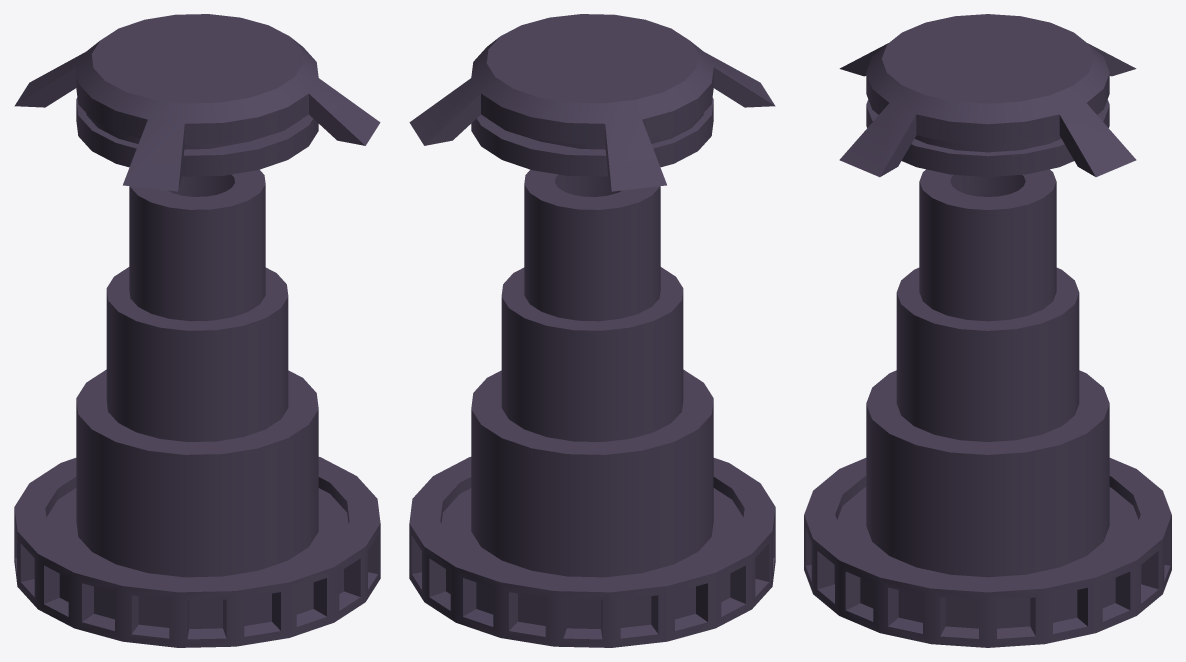
File: Elevador_Cargo_Tren.fbx
The picture shows the model from 3 angles, left to right: view 1: azimuth 30°, elevation 25°; view 2: azimuth 150°, elevation 25°; view 3: azimuth 270°, elevation 25°; orthographic projection.
Visible parts, largest first — view 1: Cargo_Container_Magnet.002, Cargo_Container_Magnet.003, Elevador_Cargo_Tren, Cargo_Container_Magnet.004, Cargo_Container_Magnet.005; view 2: Cargo_Container_Magnet.002, Cargo_Container_Magnet.003, Elevador_Cargo_Tren, Cargo_Container_Magnet.004, Cargo_Container_Magnet.005; view 3: Cargo_Container_Magnet.002, Cargo_Container_Magnet.003, Elevador_Cargo_Tren, Cargo_Container_Magnet.004, Cargo_Container_Magnet.005.
Part boxes in pixels (x1=…): Cargo_Container_Magnet.002: x1=14, y1=14, x2=380, y2=191; Cargo_Container_Magnet.003: x1=76, y1=369, x2=318, y2=577; Elevador_Cargo_Tren: x1=14, y1=457, x2=380, y2=647; Cargo_Container_Magnet.004: x1=106, y1=267, x2=288, y2=441; Cargo_Container_Magnet.005: x1=129, y1=170, x2=265, y2=321; Cargo_Container_Magnet.002: x1=409, y1=14, x2=775, y2=191; Cargo_Container_Magnet.003: x1=471, y1=369, x2=713, y2=577; Elevador_Cargo_Tren: x1=409, y1=457, x2=775, y2=647; Cargo_Container_Magnet.004: x1=501, y1=267, x2=683, y2=441; Cargo_Container_Magnet.005: x1=524, y1=170, x2=660, y2=321; Cargo_Container_Magnet.002: x1=839, y1=14, x2=1136, y2=177; Cargo_Container_Magnet.003: x1=866, y1=370, x2=1109, y2=577; Elevador_Cargo_Tren: x1=804, y1=458, x2=1171, y2=647; Cargo_Container_Magnet.004: x1=896, y1=267, x2=1079, y2=441; Cargo_Container_Magnet.005: x1=919, y1=169, x2=1056, y2=321.
Size of the model in its own units: 600 by 920 by 600.
